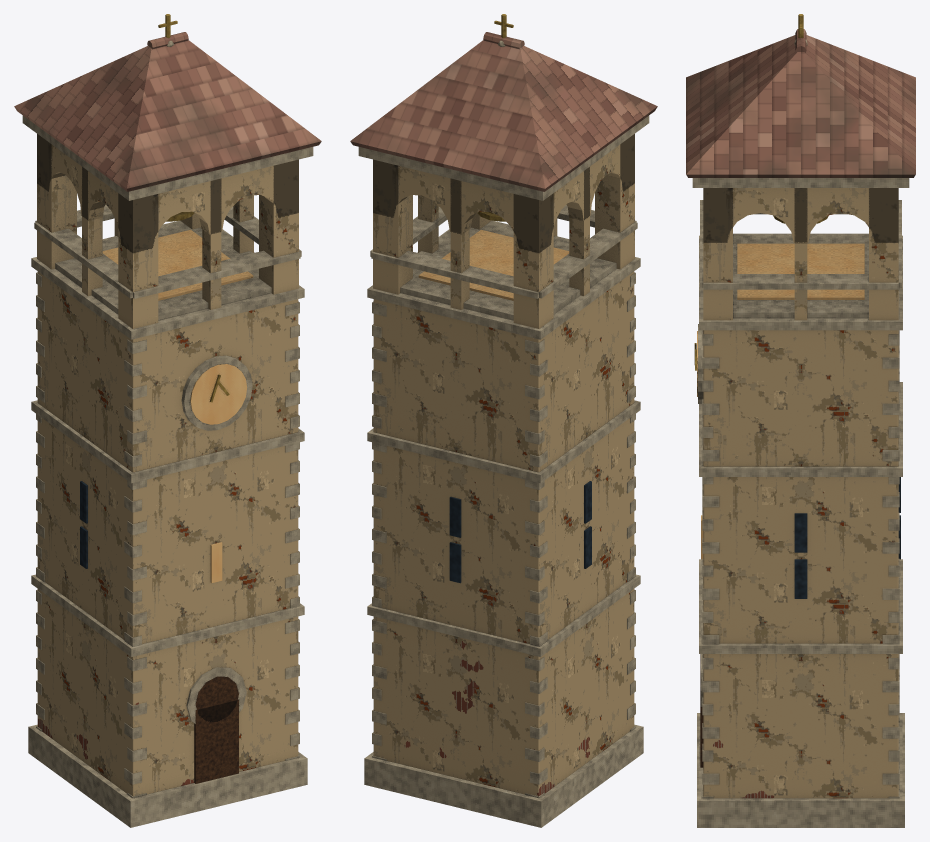
The model's file is siracusa_bell_tower.glb.
3 renders of one model, left to right at view 1: azimuth 30°, elevation 25°; view 2: azimuth 150°, elevation 25°; view 3: azimuth 270°, elevation 25°, orthographic.
Visible parts, largest first — view 1: siracusa_bell_tower; view 2: siracusa_bell_tower; view 3: siracusa_bell_tower.
Boxes of the visible parts, <box> form: siracusa_bell_tower: <box>14,14,321,827</box>; siracusa_bell_tower: <box>350,14,657,827</box>; siracusa_bell_tower: <box>686,14,915,827</box>.
Bounding box in the file's own units: 5.4 × 19.96 × 5.41.
Materials: 7 (7 with a texture image).
